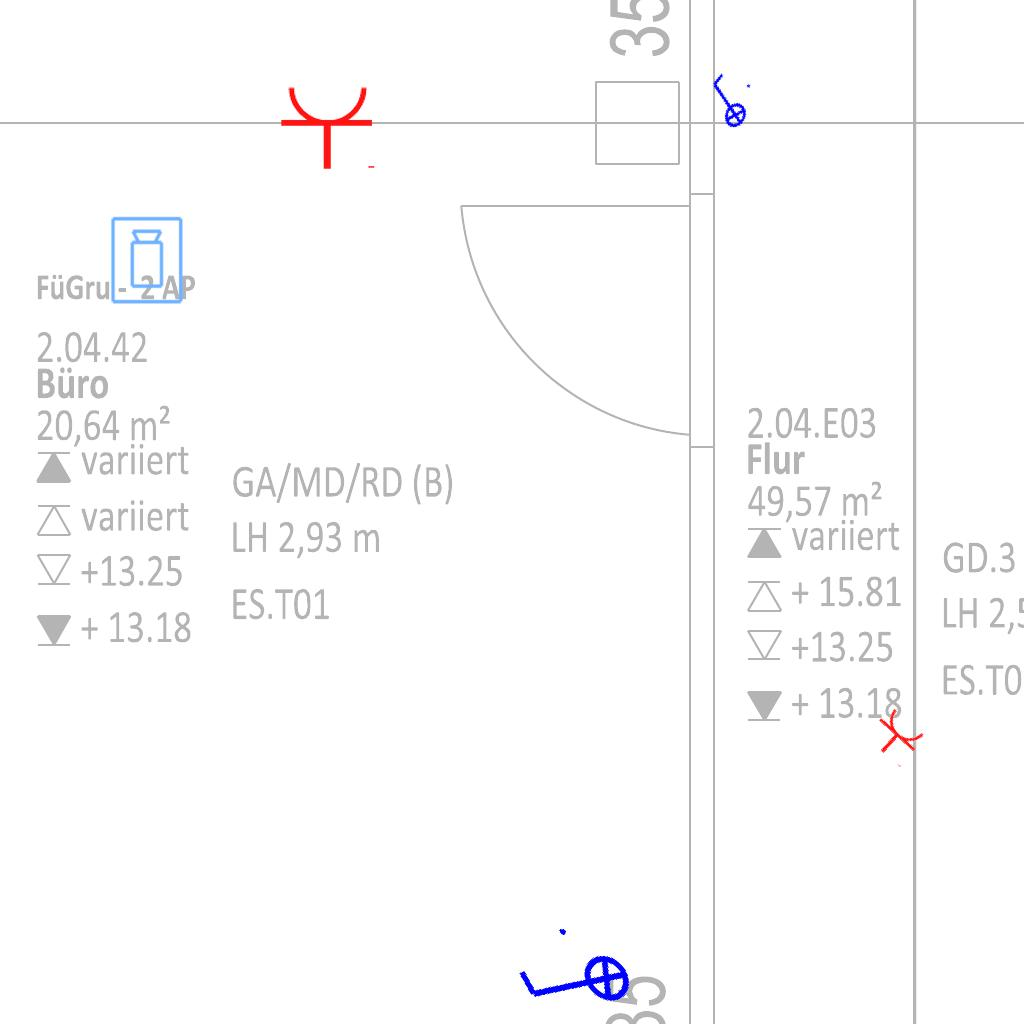Ausschalter_beleuchtet: (502, 910, 650, 1024), (693, 66, 761, 138)
KFO_Kamera_mit_Festobjektiv: (109, 215, 186, 306)
Schukosteckdose_einfach: (279, 84, 379, 171), (863, 704, 930, 770)
